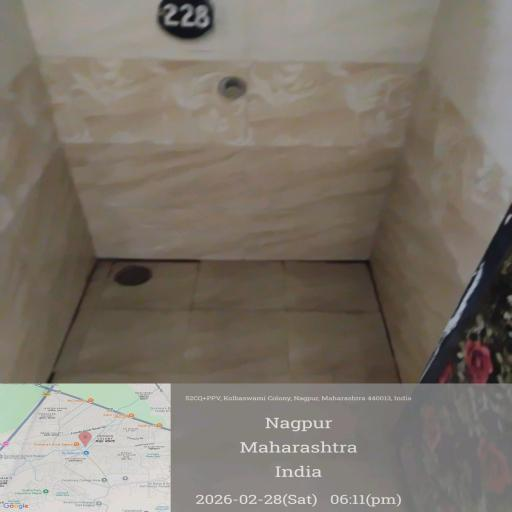clean_floor: (95, 123, 393, 452)
